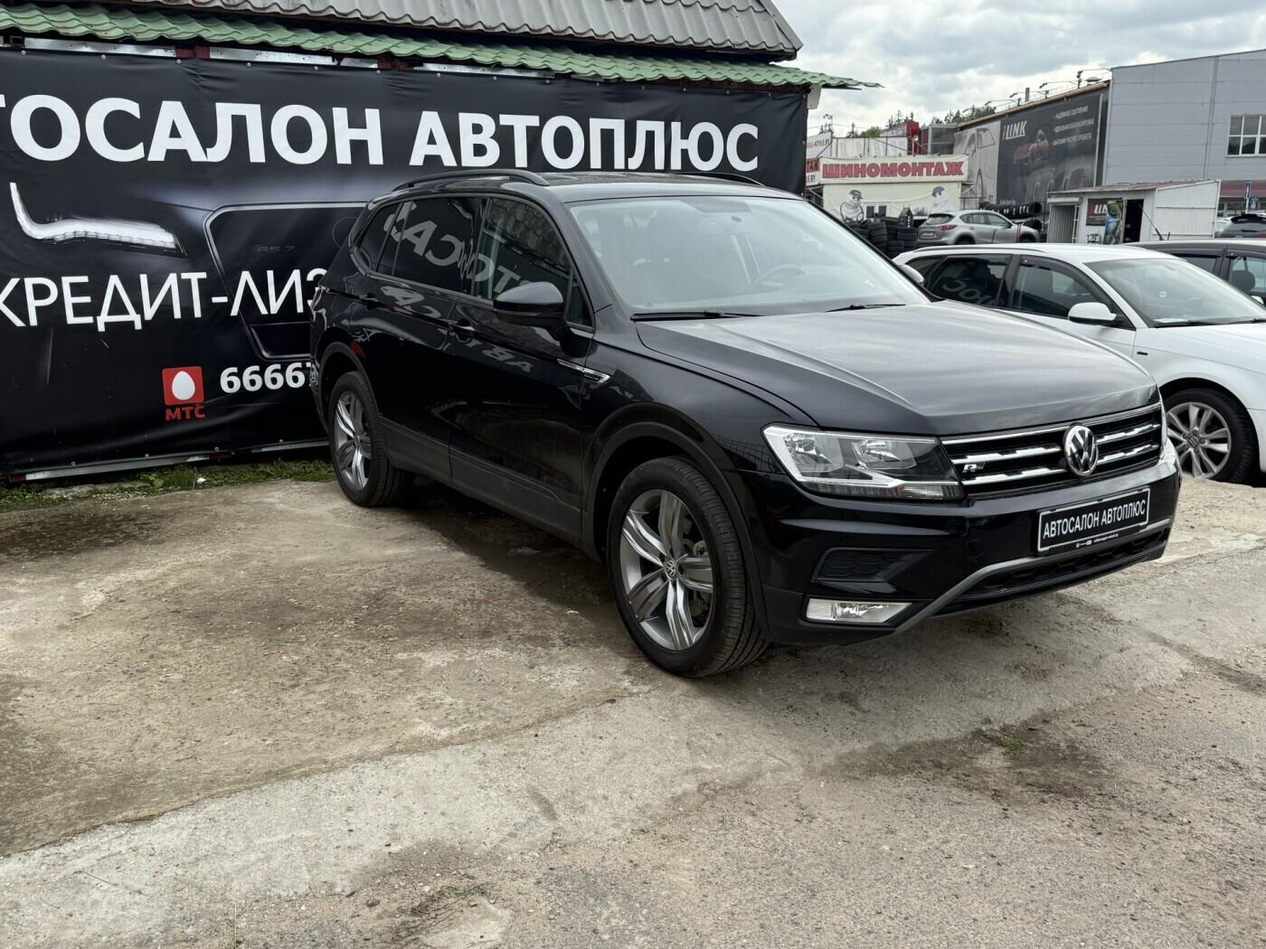Tiguan_2016-2021: (305, 163, 1183, 679)
